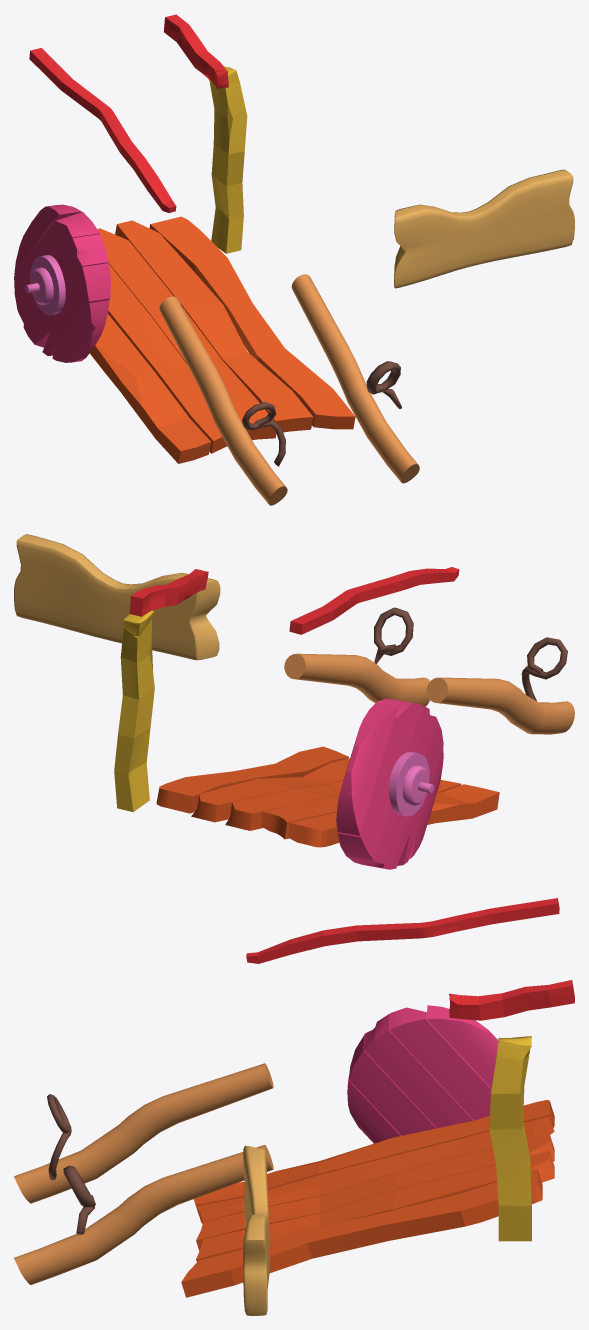
File: Carretilla.fbx
3 renders of one model, top to bottom at view 1: azimuth 30°, elevation 25°; view 2: azimuth 150°, elevation 25°; view 3: azimuth 270°, elevation 25°, orthographic. The views are drawn at different scales.
Visible parts, largest first — view 1: Cube, Cube.004, Cube.010, Cylinder.003, Cylinder.002, Cube.003, Cube.007, BezierCurve, Cube.011, Cylinder.004; view 2: Cube, Cube.004, Cube.010, Cube.003, Cylinder.002, Cylinder.003, Cube.007, Cylinder.004, BezierCurve, Cube.011; view 3: Cube, Cube.010, Cylinder.002, Cylinder.003, Cube.003, Cube.007, Cube.004, Cube.011, BezierCurve.
Part boxes in pixels (left/top/right/bottom): Cube: left=89, top=216, right=355, bottom=463; Cube.004: left=394, top=169, right=574, bottom=288; Cube.010: left=14, top=204, right=110, bottom=362; Cylinder.003: left=291, top=274, right=419, bottom=483; Cylinder.002: left=159, top=296, right=287, bottom=505; Cube.003: left=208, top=66, right=247, bottom=253; Cube.007: left=29, top=48, right=176, bottom=212; BezierCurve: left=242, top=361, right=401, bottom=466; Cube.011: left=163, top=14, right=228, bottom=88; Cylinder.004: left=24, top=255, right=65, bottom=315; Cube: left=156, top=746, right=499, bottom=847; Cube.004: left=14, top=534, right=220, bottom=660; Cube.010: left=336, top=698, right=443, bottom=869; Cube.003: left=114, top=610, right=154, bottom=812; Cylinder.002: left=426, top=677, right=574, bottom=734; Cylinder.003: left=284, top=653, right=430, bottom=706; Cube.007: left=289, top=567, right=459, bottom=634; Cylinder.004: left=388, top=751, right=434, bottom=816; BezierCurve: left=374, top=607, right=567, bottom=701; Cube.011: left=129, top=569, right=208, bottom=616; Cube: left=181, top=1100, right=554, bottom=1297; Cube.010: left=347, top=1005, right=498, bottom=1143; Cylinder.002: left=14, top=1063, right=273, bottom=1203; Cylinder.003: left=14, top=1145, right=273, bottom=1284; Cube.003: left=489, top=1036, right=531, bottom=1241; Cube.007: left=246, top=898, right=559, bottom=963; Cube.004: left=243, top=1145, right=269, bottom=1315; Cube.011: left=449, top=980, right=574, bottom=1020; BezierCurve: left=47, top=1094, right=95, bottom=1234.
Bounding box in the file's own units: 2004 × 1204 × 1923.
